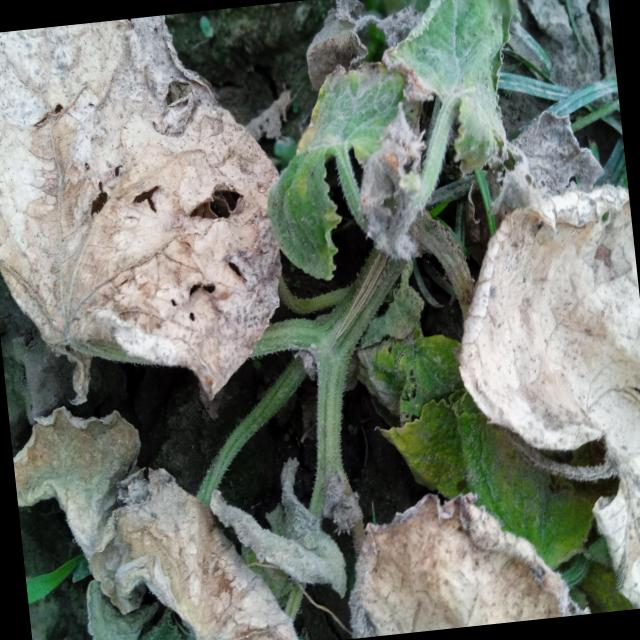cucumber_bacterial: (0, 4, 304, 408), (436, 204, 640, 488), (8, 392, 245, 624), (340, 479, 582, 636), (384, 0, 524, 192), (348, 115, 439, 240), (342, 509, 342, 512)
